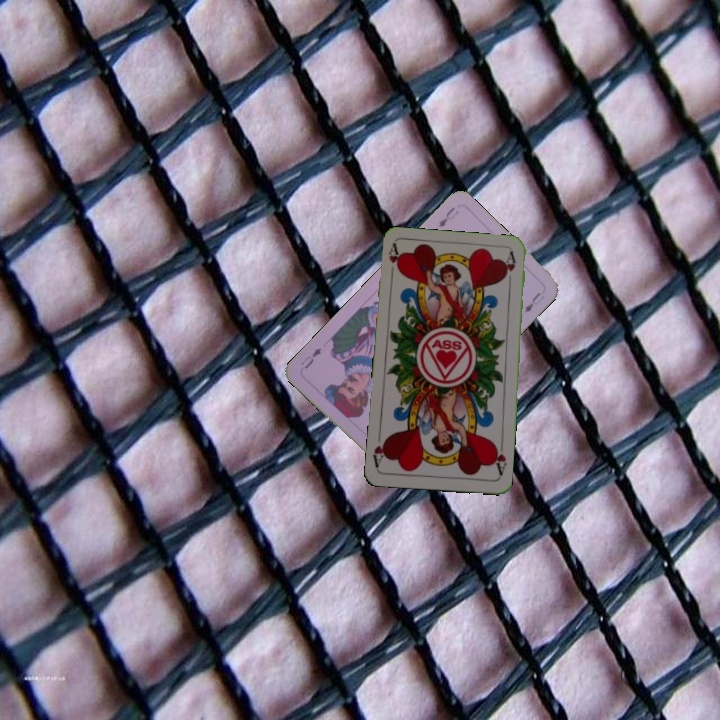EU: (434, 203, 462, 230)
HA: (489, 438, 509, 478), (384, 241, 403, 282)
